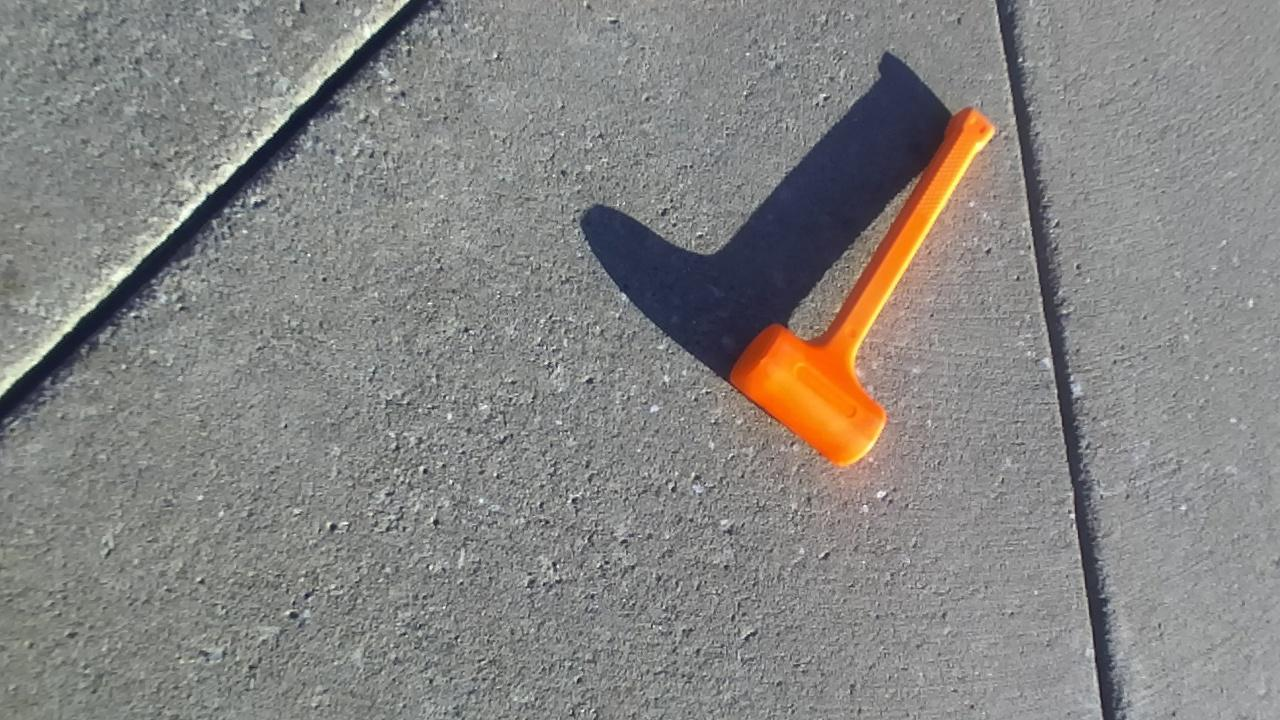mallet: (730, 107, 993, 465)
